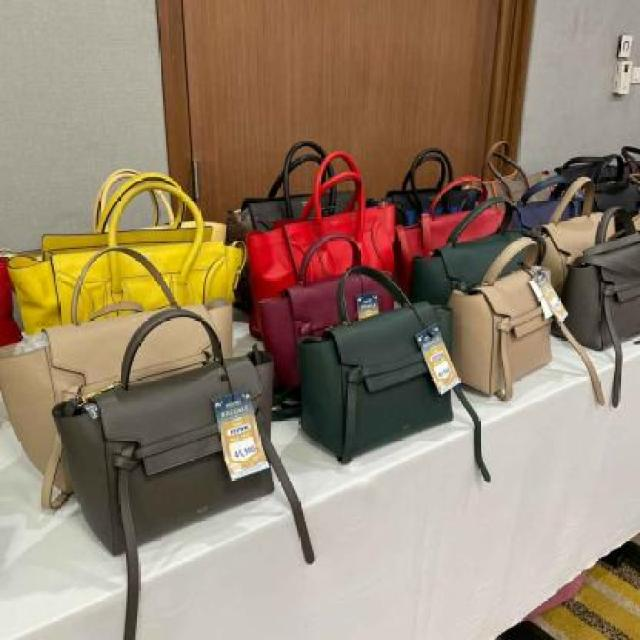Bag: (38, 288, 299, 550), (303, 251, 465, 449), (440, 223, 577, 395), (564, 184, 640, 357)
